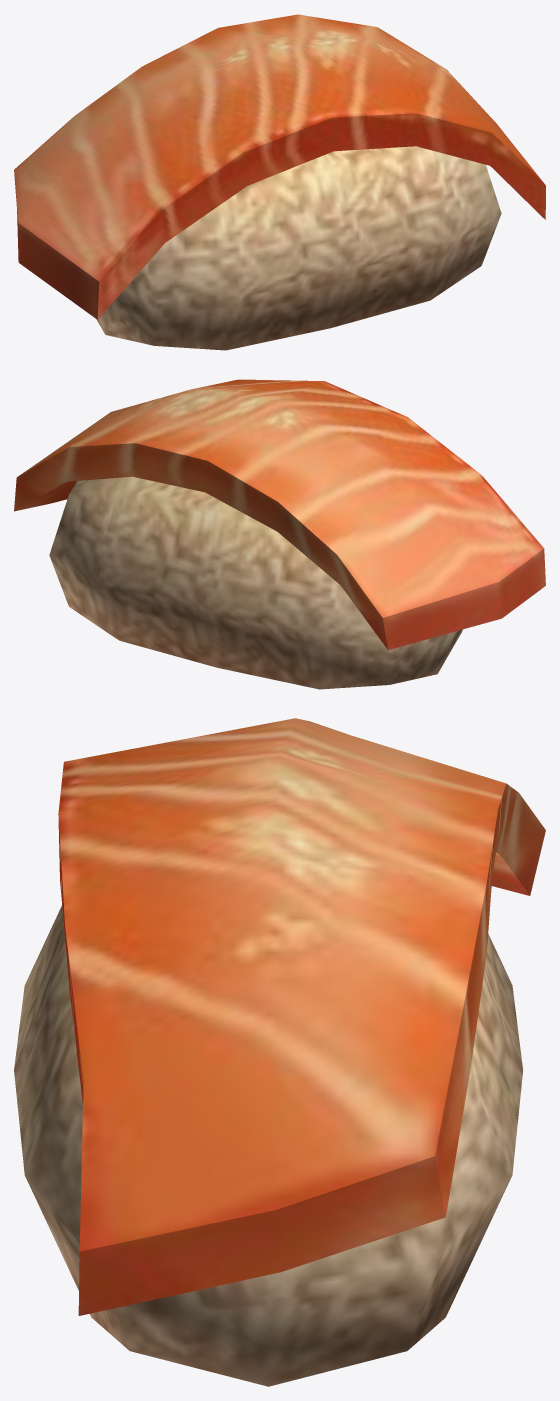
Rendered from sushi.glb.
3 renders of one model, top to bottom at view 1: azimuth 30°, elevation 25°; view 2: azimuth 150°, elevation 25°; view 3: azimuth 270°, elevation 25°, orthographic. The views are drawn at different scales.
Parts seen in each view (by area): view 1: SushisSalmon.001, SushisSalmon; view 2: SushisSalmon.001, SushisSalmon; view 3: SushisSalmon.001, SushisSalmon.
Part boxes in pixels (x1,y1,x2,y2): SushisSalmon.001: [14, 14, 545, 319]; SushisSalmon: [96, 146, 501, 350]; SushisSalmon.001: [14, 379, 545, 649]; SushisSalmon: [49, 476, 462, 689]; SushisSalmon.001: [58, 718, 545, 1315]; SushisSalmon: [14, 905, 523, 1386].
Size of the model in its own units: 0.3234 by 0.18 by 0.1687.
1 material, 1 textured.
